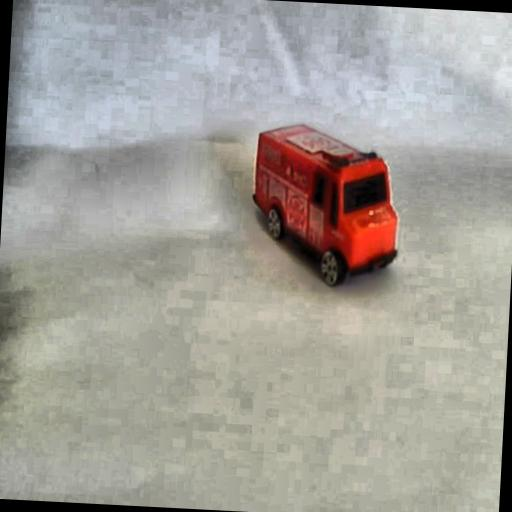fire_truck: (239, 117, 411, 301), (254, 157, 290, 230), (260, 131, 310, 172)
